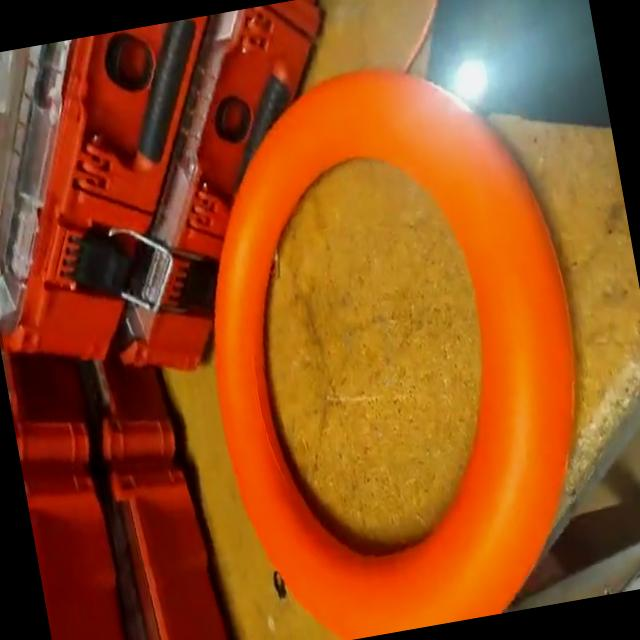note: (161, 40, 624, 640)
